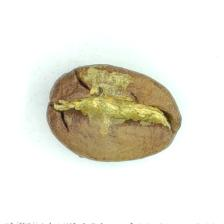NG: (56, 65, 173, 149)
